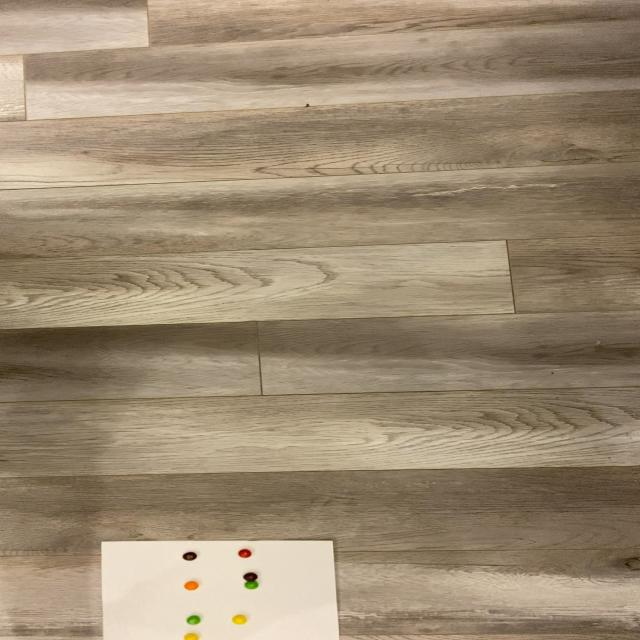smartie: (230, 613, 246, 623), (242, 572, 257, 582), (184, 581, 199, 591), (183, 552, 198, 561), (243, 581, 258, 590), (237, 549, 251, 558), (186, 616, 200, 625), (183, 634, 198, 640)
